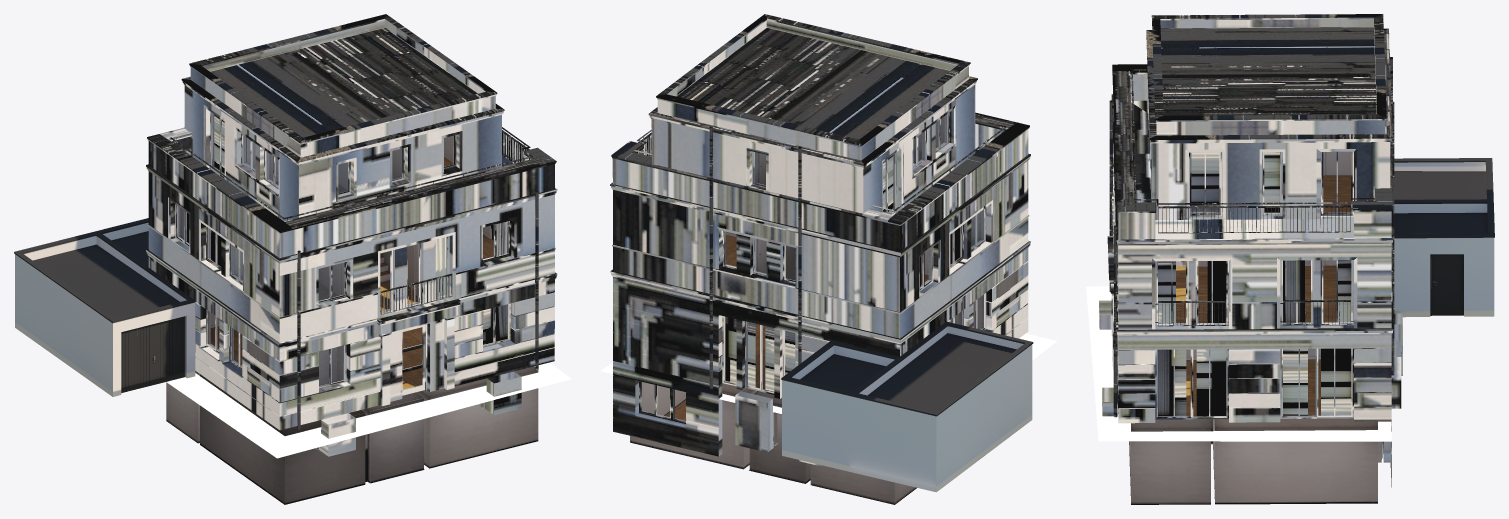
Rendered from bud_b_02.gltf.
3 views of the same model, side by side, from view 1: azimuth 30°, elevation 25°; view 2: azimuth 150°, elevation 25°; view 3: azimuth 270°, elevation 25° (orthographic). The views are drawn at different scales.
Visible parts, largest first — view 1: 006_Cube.040, 006_Cube.036, bud_b_02, 006_Layer:_MURY zewnetrzne 01.018, Plane; view 2: 006_Cube.040, 006_Layer:_MURY zewnetrzne 01.018, 006_Cube.036, bud_b_02, Plane; view 3: 006_Cube.040, bud_b_02, 006_Cube.036, 006_Layer:_MURY zewnetrzne 01.018, Plane.
Part boxes in pixels (left/top/right/bottom): 006_Cube.040: left=146, top=18, right=557, bottom=456; 006_Cube.036: left=147, top=14, right=556, bottom=430; bud_b_02: left=166, top=113, right=538, bottom=504; 006_Layer:_MURY zewnetrzne 01.018: left=14, top=218, right=195, bottom=396; Plane: left=166, top=362, right=571, bottom=458; 006_Cube.040: left=610, top=18, right=1030, bottom=466; 006_Layer:_MURY zewnetrzne 01.018: left=781, top=321, right=1033, bottom=492; 006_Cube.036: left=611, top=14, right=1029, bottom=389; bud_b_02: left=630, top=114, right=983, bottom=504; Plane: left=600, top=333, right=1056, bottom=413; 006_Cube.040: left=1099, top=17, right=1402, bottom=487; bud_b_02: left=1129, top=151, right=1390, bottom=504; 006_Cube.036: left=1109, top=14, right=1394, bottom=417; 006_Layer:_MURY zewnetrzne 01.018: left=1394, top=158, right=1494, bottom=317; Plane: left=1086, top=286, right=1391, bottom=441.
Size of the model in its own units: 66.96 by 60.02 by 59.33.
Materials: 6 (5 with a texture image).
